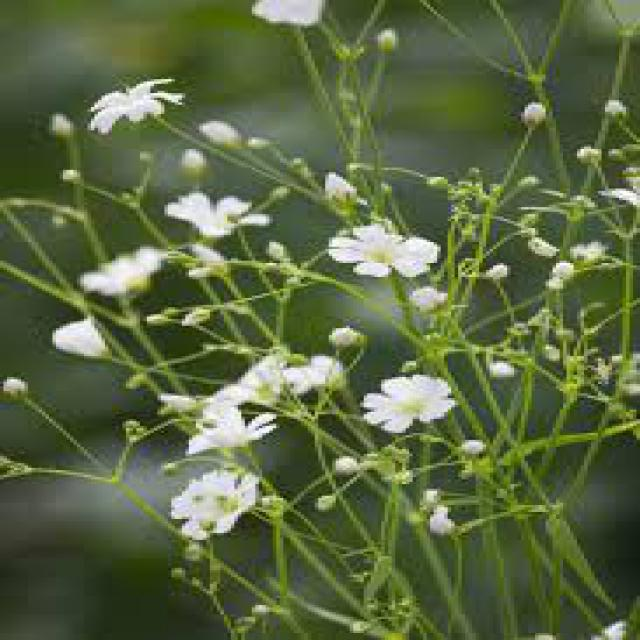gypsophila: (152, 474, 312, 549), (322, 210, 455, 297), (348, 359, 459, 432)
